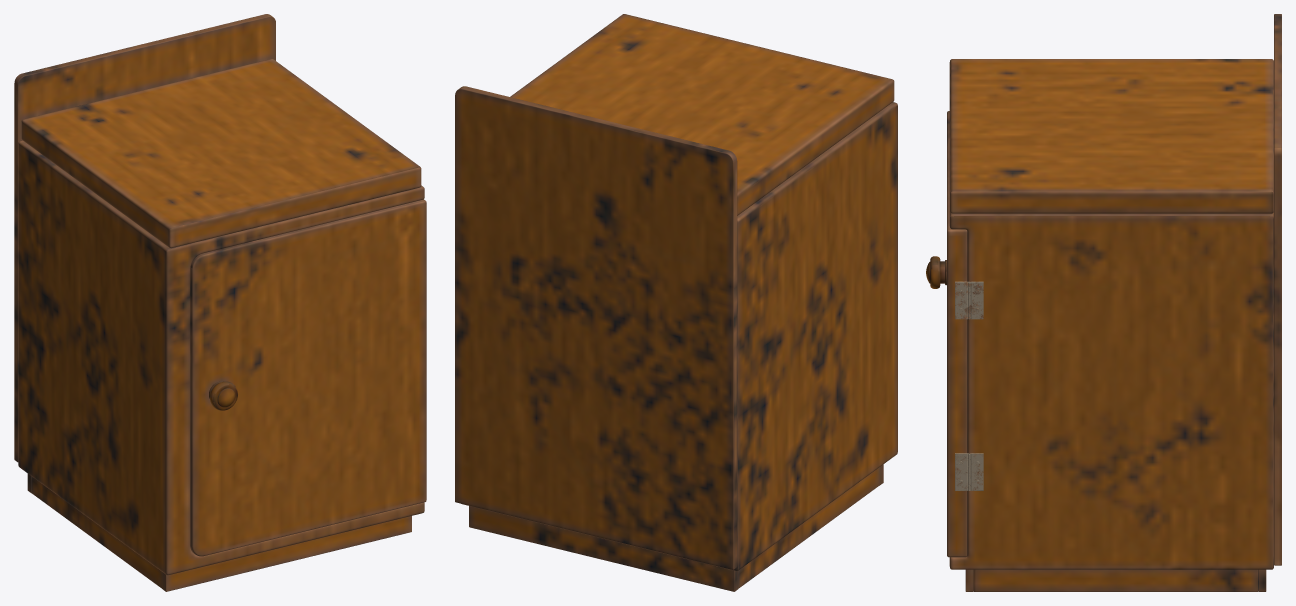
The model's file is cabinet1.fbx.
3 renders of one model, left to right at view 1: azimuth 30°, elevation 25°; view 2: azimuth 150°, elevation 25°; view 3: azimuth 270°, elevation 25°, orthographic. The views are drawn at different scales.
Parts seen in each view (by area): view 1: cabinet_Baked; view 2: cabinet_Baked; view 3: cabinet_Baked, connect_Baked.
Part boxes in pixels (box(x1,y1,x2,y2)): cabinet_Baked: box(14, 14, 426, 591); cabinet_Baked: box(455, 14, 897, 591); cabinet_Baked: box(926, 14, 1281, 591); connect_Baked: box(955, 281, 983, 490).
Bounding box in the file's own units: 60.45 × 91.32 × 65.82.
